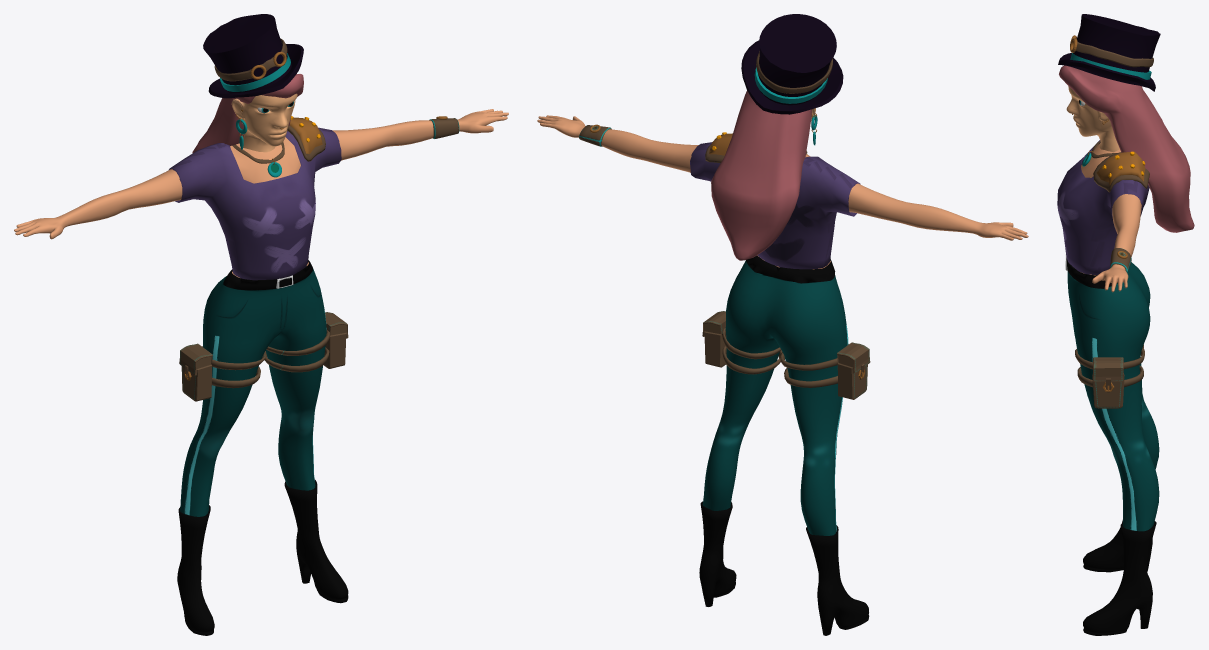
File: steampunkGirlReduced.fbx
3 views of the same model, side by side, from view 1: azimuth 30°, elevation 25°; view 2: azimuth 150°, elevation 25°; view 3: azimuth 270°, elevation 25° (orthographic). The views are drawn at different scales.
Parts seen in each view (by area): view 1: Pants, Shirt, Body.001, Boot Left, Hat, Cube, HeadNeck, hAIR, BagStrips; view 2: Pants, hAIR, Hat, Body.001, Shirt, Boot Left, Cube, BagStrips; view 3: Pants, hAIR, Shirt, Boot Left, Hat, Body.001, Cube, HeadNeck, Shoulder Plate.001, GooglesStrap, BagStrips, Shoulder Plate (+2 smaller).
Boxes of the visible parts, <box> form: Pants: <box>180,260,326,516</box>; Shirt: <box>169,127,341,280</box>; Body.001: <box>14,109,508,239</box>; Boot Left: <box>177,480,348,635</box>; Hat: <box>203,14,303,98</box>; Cube: <box>179,312,348,401</box>; HeadNeck: <box>231,93,297,152</box>; hAIR: <box>192,74,303,152</box>; BagStrips: <box>202,330,329,388</box>; Pants: <box>702,255,848,535</box>; hAIR: <box>711,90,812,260</box>; Hat: <box>741,14,843,114</box>; Body.001: <box>537,115,1028,240</box>; Shirt: <box>690,142,860,269</box>; Boot Left: <box>699,501,869,635</box>; Cube: <box>702,311,870,399</box>; BagStrips: <box>722,328,848,387</box>; Pants: <box>1065,254,1159,531</box>; hAIR: <box>1059,65,1194,232</box>; Shirt: <box>1057,140,1149,274</box>; Boot Left: <box>1083,520,1156,635</box>; Hat: <box>1058,14,1160,91</box>; Body.001: <box>1081,143,1141,292</box>; Cube: <box>1092,357,1124,408</box>; HeadNeck: <box>1066,86,1119,152</box>; Shoulder Plate.001: <box>1096,151,1145,185</box>; GooglesStrap: <box>1072,38,1153,67</box>; BagStrips: <box>1075,344,1144,387</box>; Shoulder Plate: <box>1093,152,1149,192</box>.
Size of the model in its own units: 153 by 175 by 37.54.
